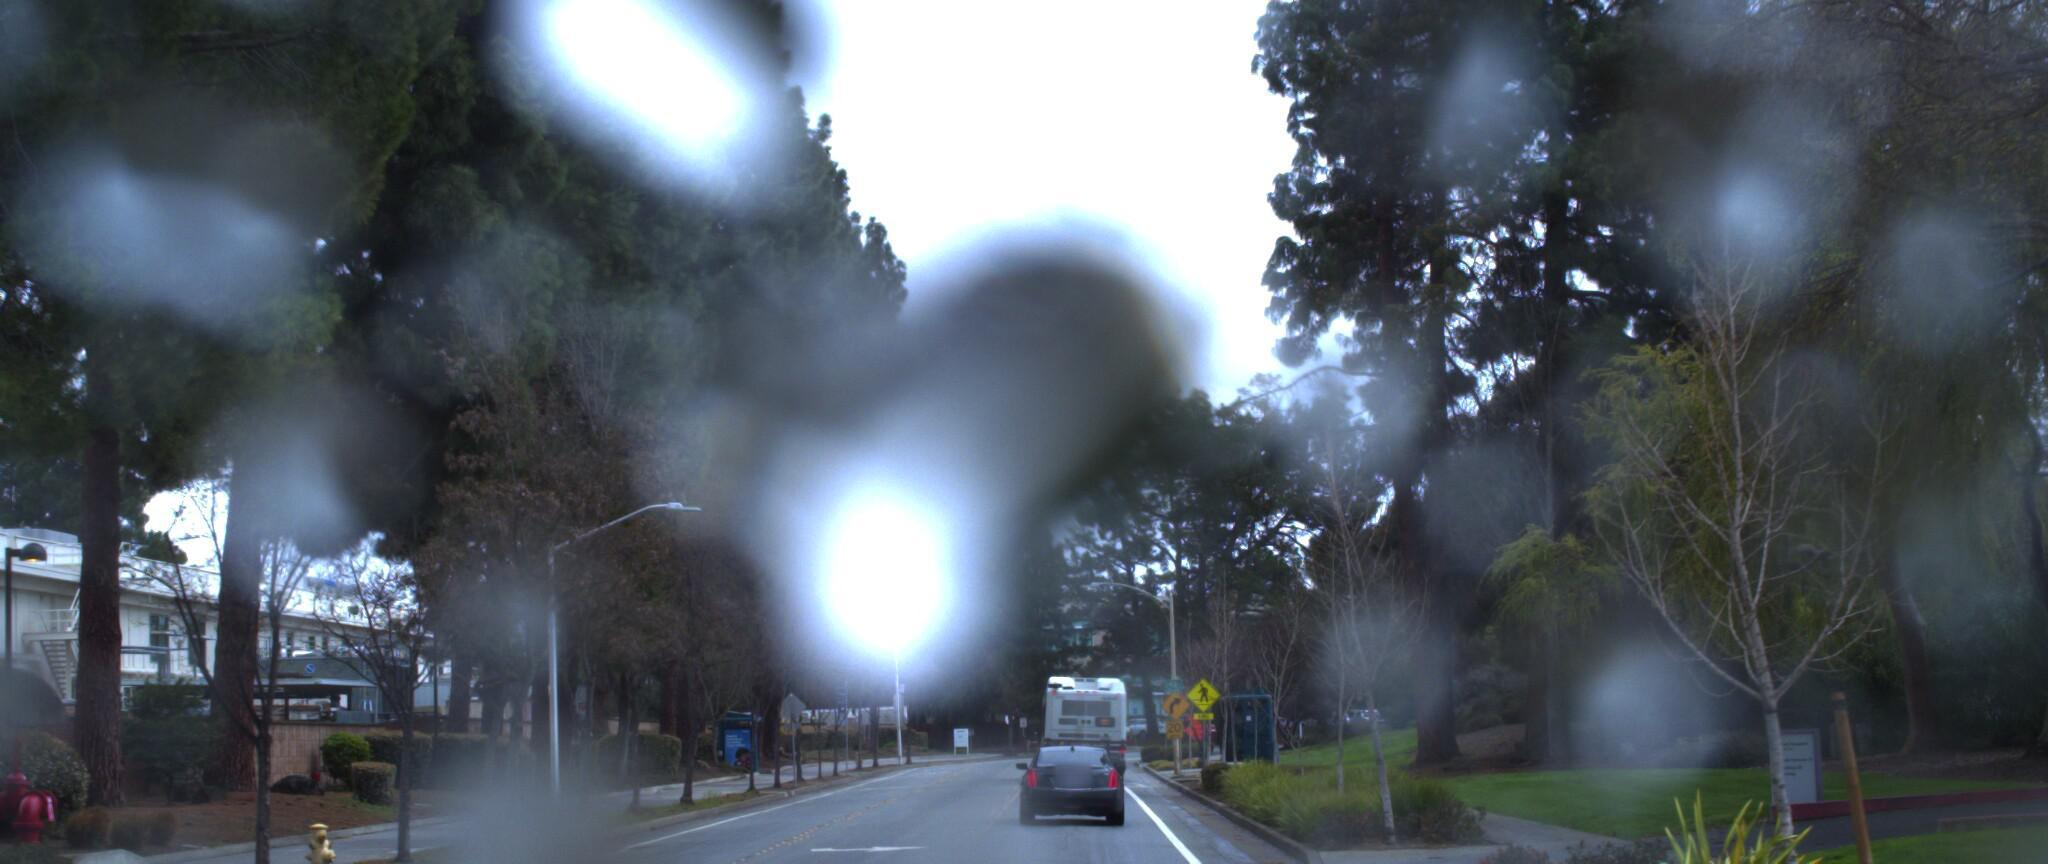car: (1019, 750, 1132, 851)
